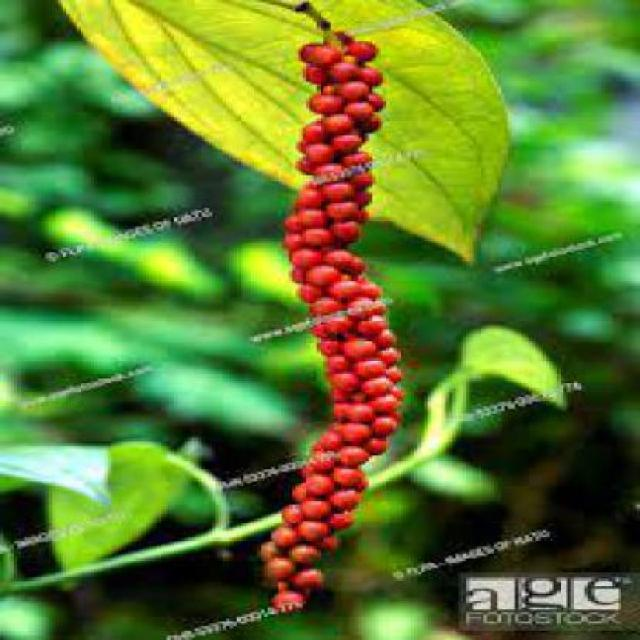RIPE: (262, 35, 400, 608)
